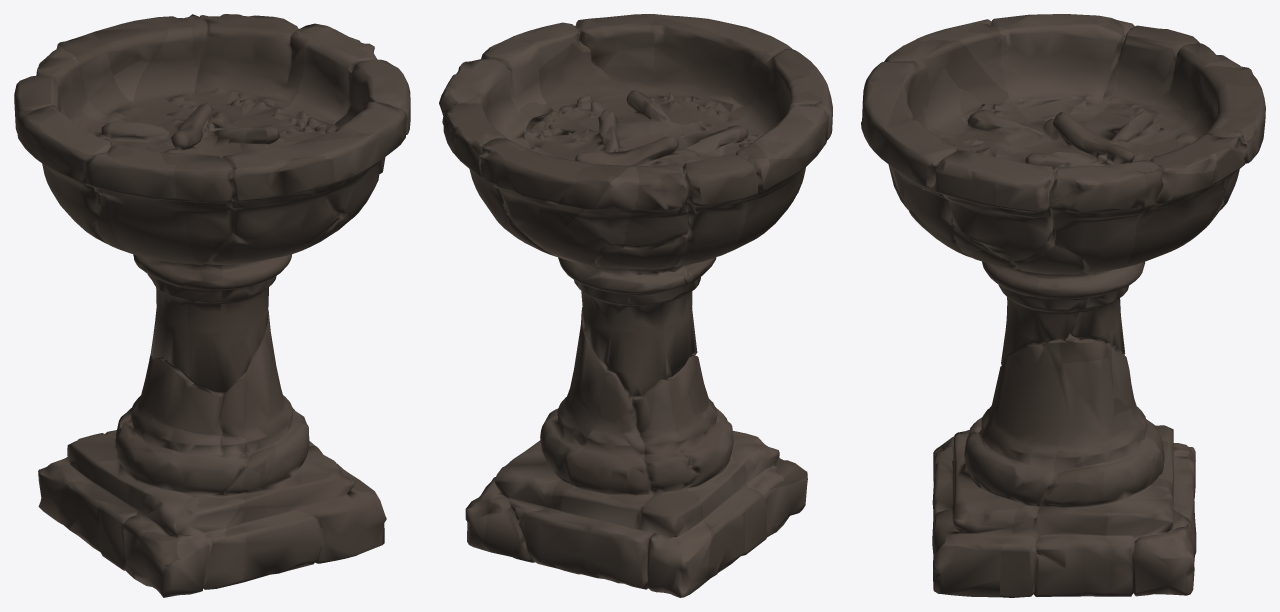
Rendered from Dungeon_lamp_shadow.glb.
3 renders of one model, left to right at view 1: azimuth 30°, elevation 25°; view 2: azimuth 150°, elevation 25°; view 3: azimuth 270°, elevation 25°, orthographic. The views are drawn at different scales.
Visible parts, largest first — view 1: YVO3D.obj; view 2: YVO3D.obj; view 3: YVO3D.obj.
Part boxes in pixels (box(x1,y1,x2,y2)): YVO3D.obj: box(14, 14, 410, 597); YVO3D.obj: box(439, 14, 832, 597); YVO3D.obj: box(861, 14, 1265, 597).
Size of the model in its own units: 0.7891 by 0.9789 by 0.7906.
Materials: 1 (1 with a texture image).
